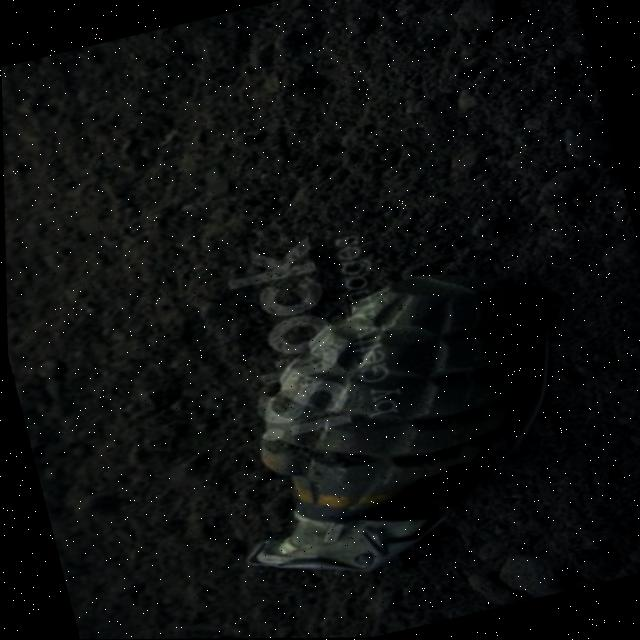grenade: (184, 240, 610, 601)
